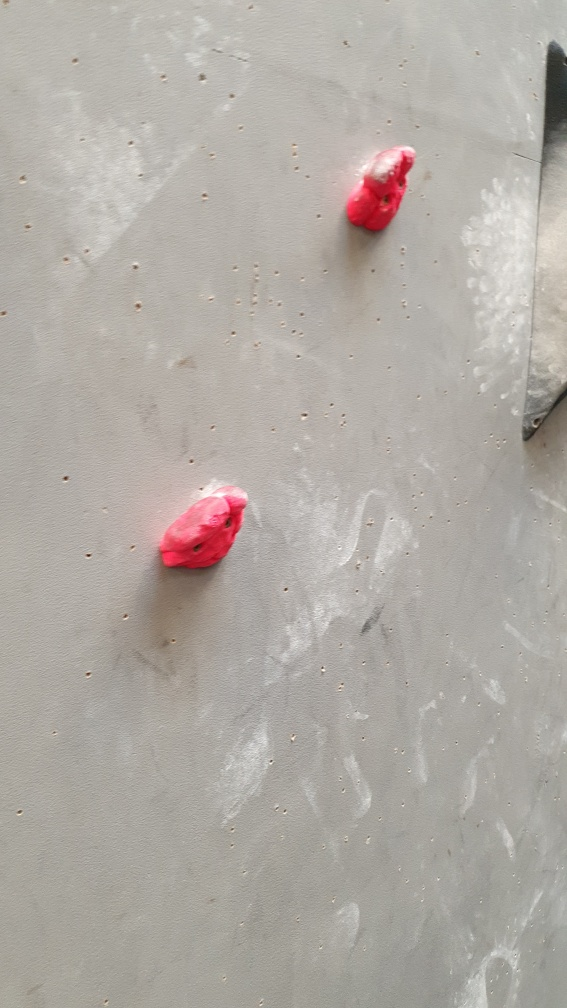Jug: (154, 484, 252, 577), (341, 141, 419, 239)
